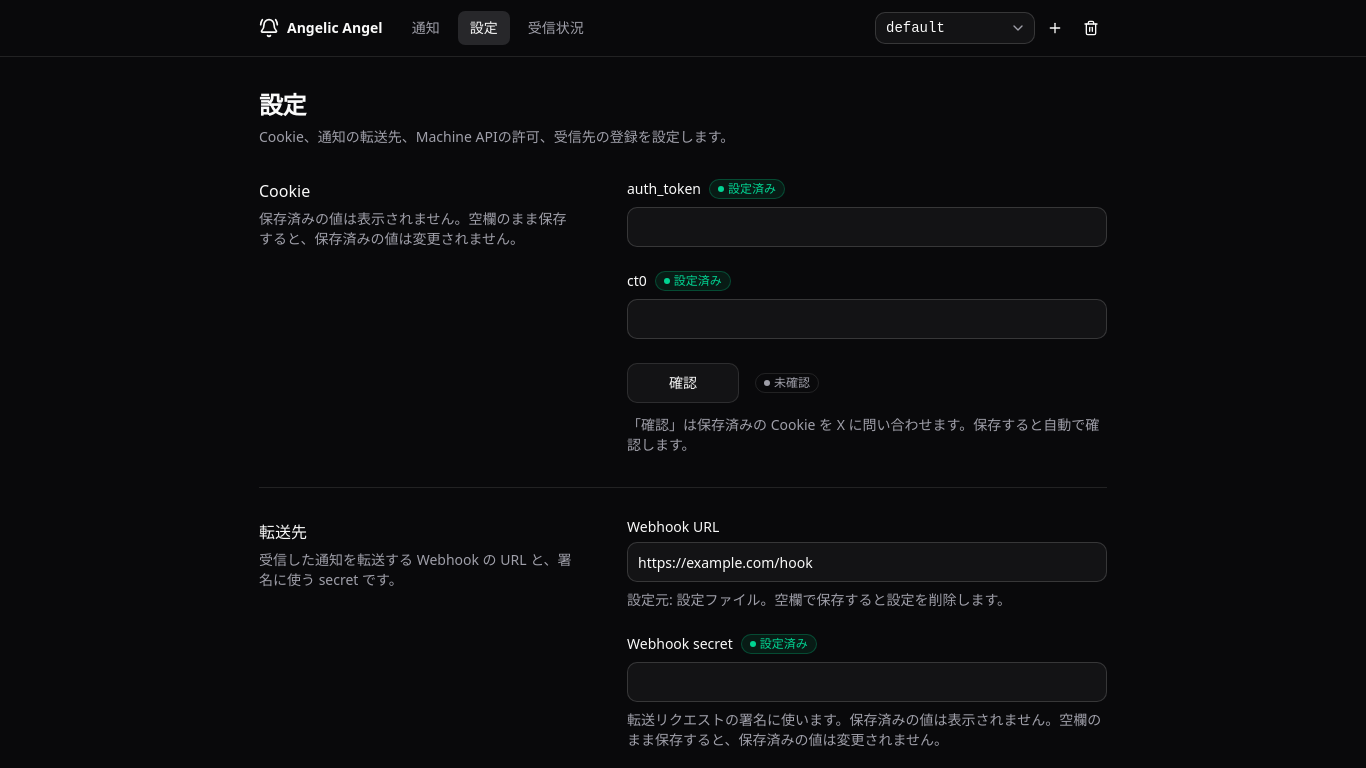
it: adding an account › shows a server-side invalid id error with the rule
Check: the heading "設定" is shown, box [259,88,306,121]
Click the button named "アカウントを追加".
click(1055, 28)  # box [1039,12,1071,44]
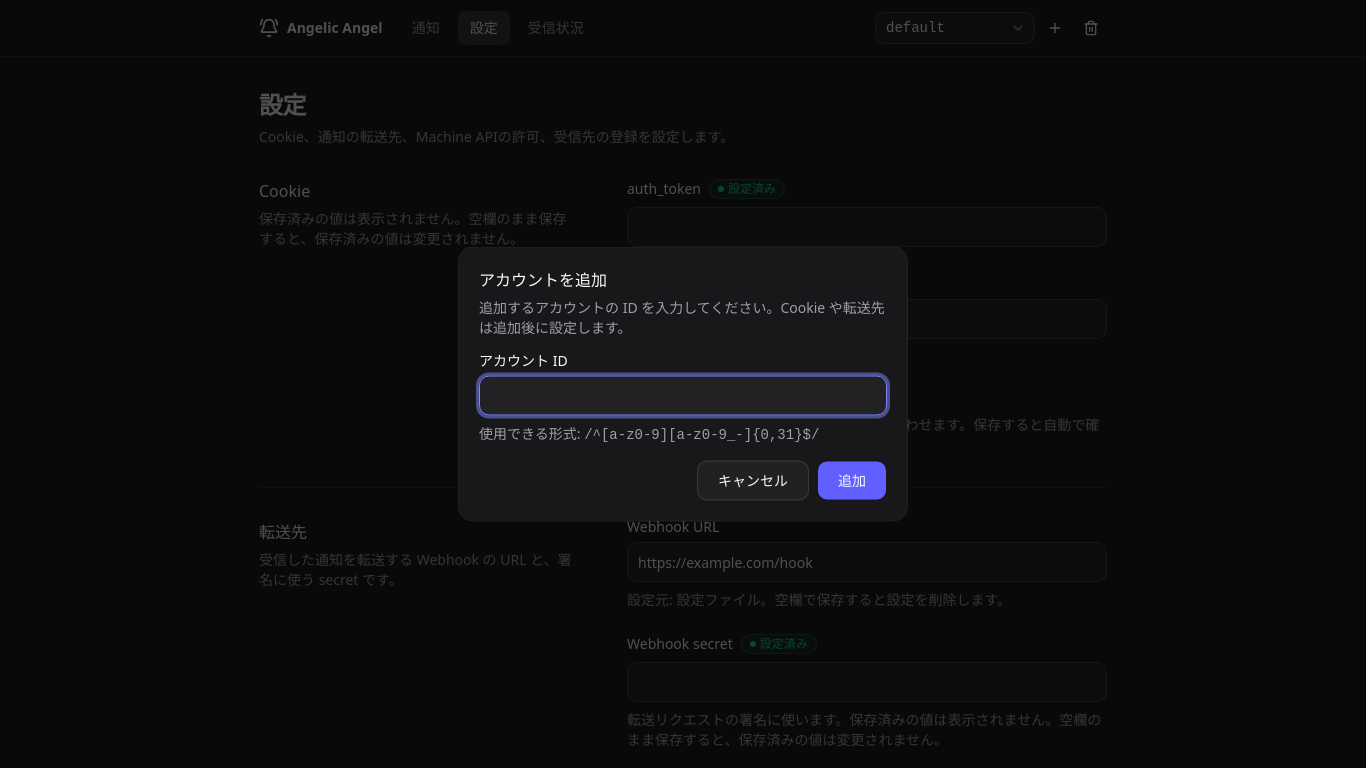
Type "ok" into the field labelled "アカウント ID".
click(683, 396); type("ok")  # box [479,376,887,416]
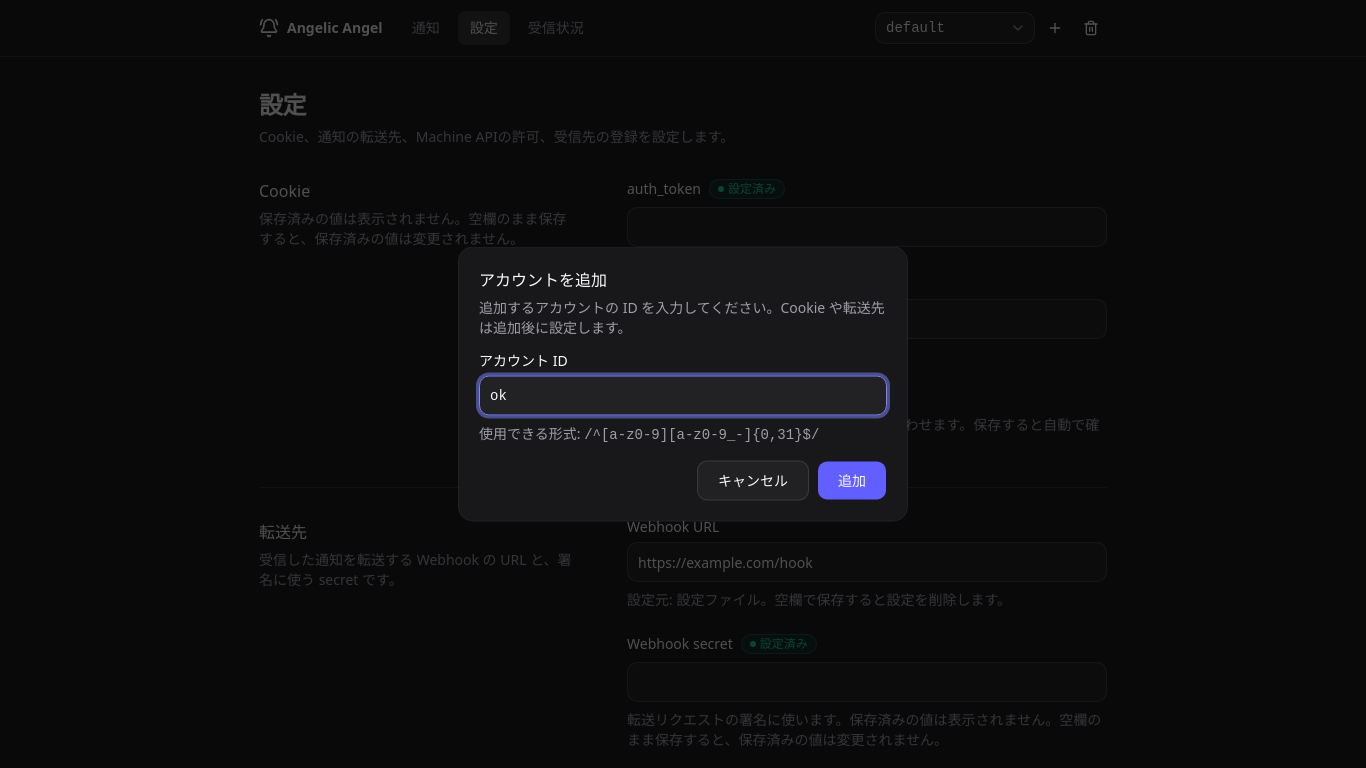
Click the button "追加".
click(852, 480)  # box [817,460,887,500]
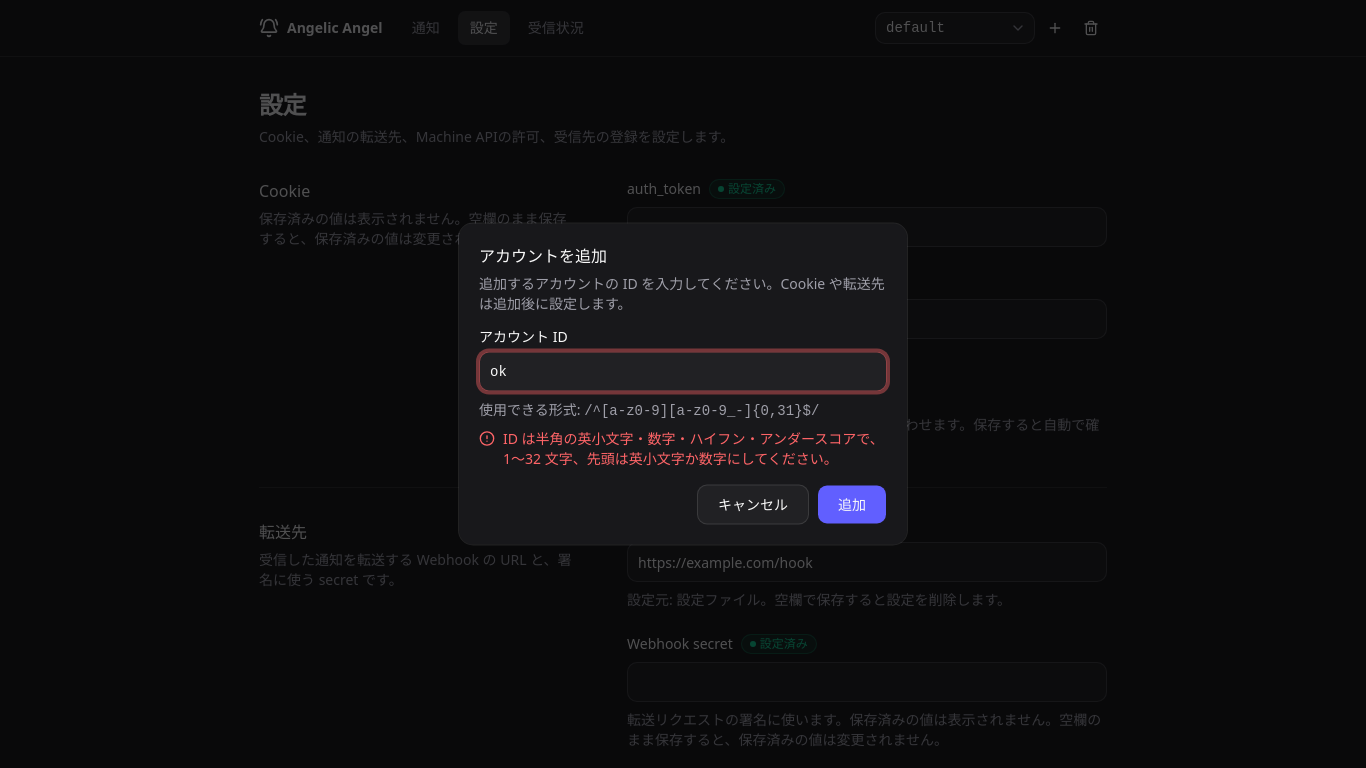
Check: the message shows "英小文字", box [503,428,884,468]
